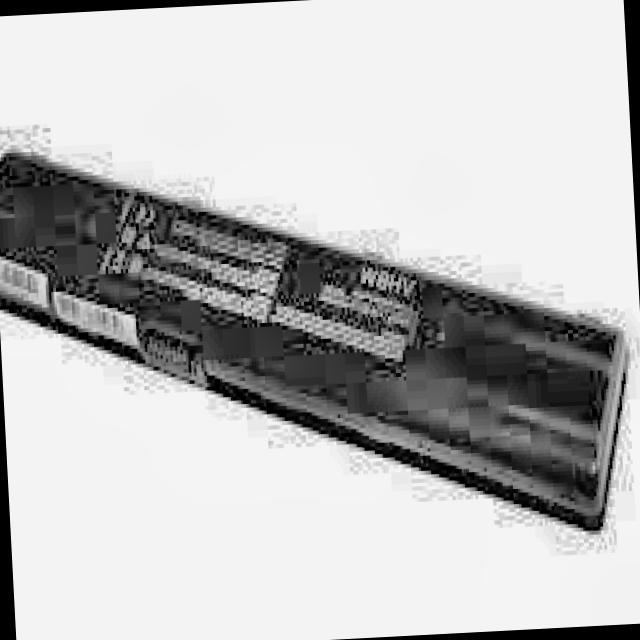Battery: (0, 121, 640, 580)
